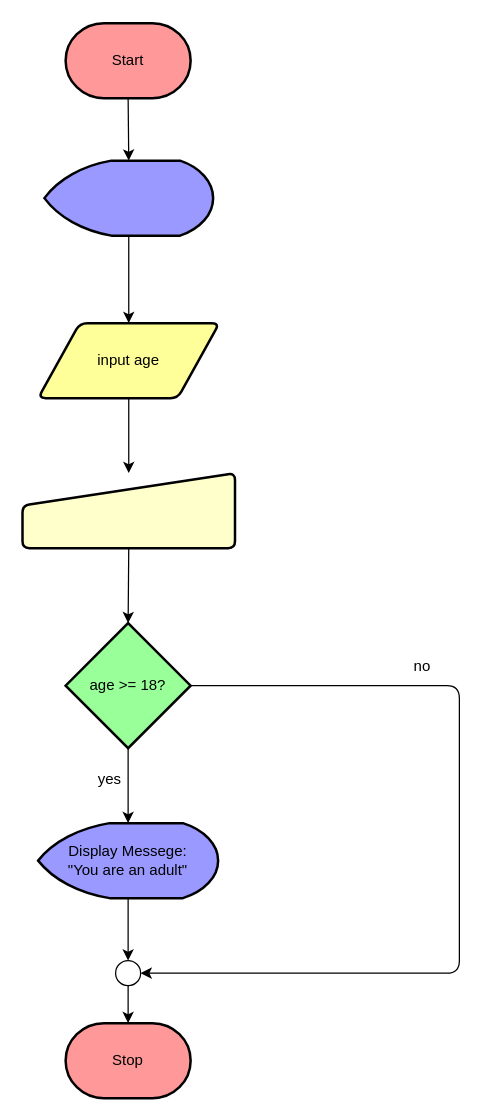
This 491x1120 diagram has some shape labels left out. Here are the shapes that lost their labels. From the top down, the centre of each, then its label:
the point at 128,197: Display Messege: "Enter your age"
the point at 128,510: read age input
